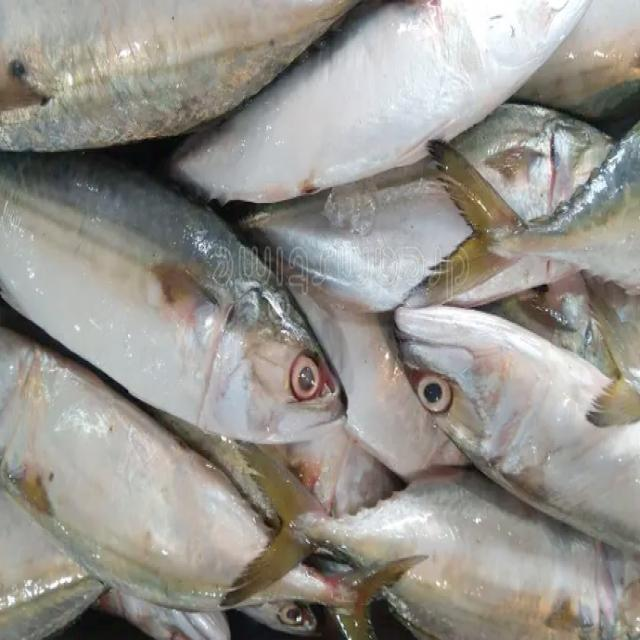Mackerel: (0, 151, 348, 441), (180, 0, 590, 197)
